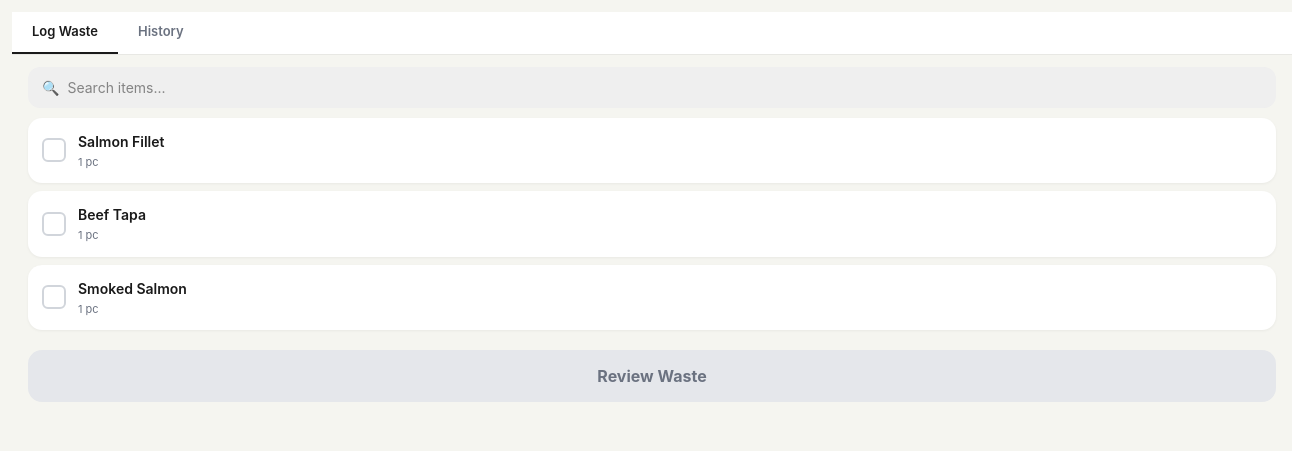
WasteContent review screen › back button returns to selection screen
Step 1. Click the element with test id "item-row-Salmon Fillet" → (652, 150), box [28,118,1276,183]
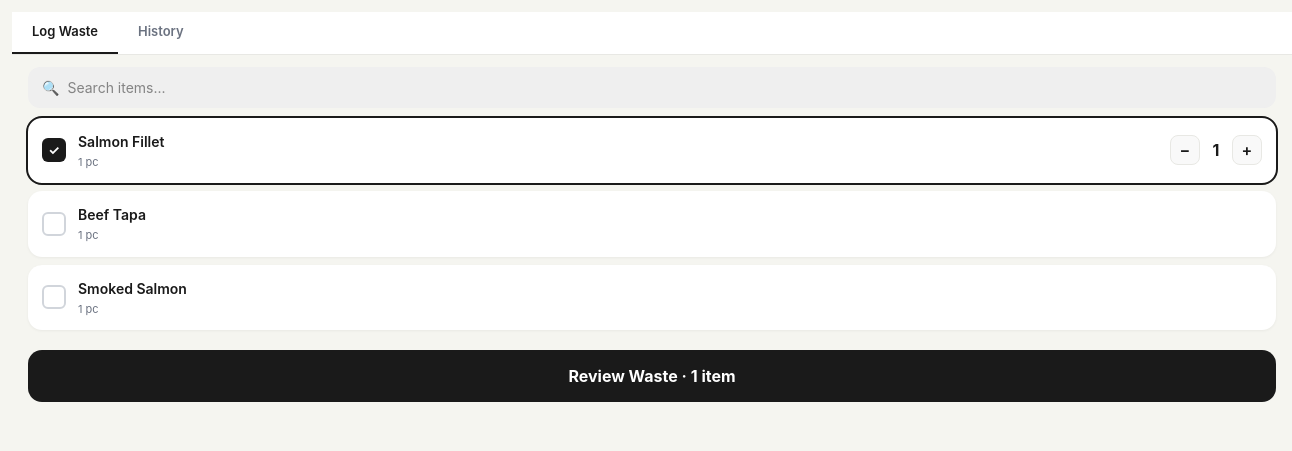
Step 2. Click the button with test id "inc-Salmon Fillet" → (1247, 150), box [1232,135,1262,165]
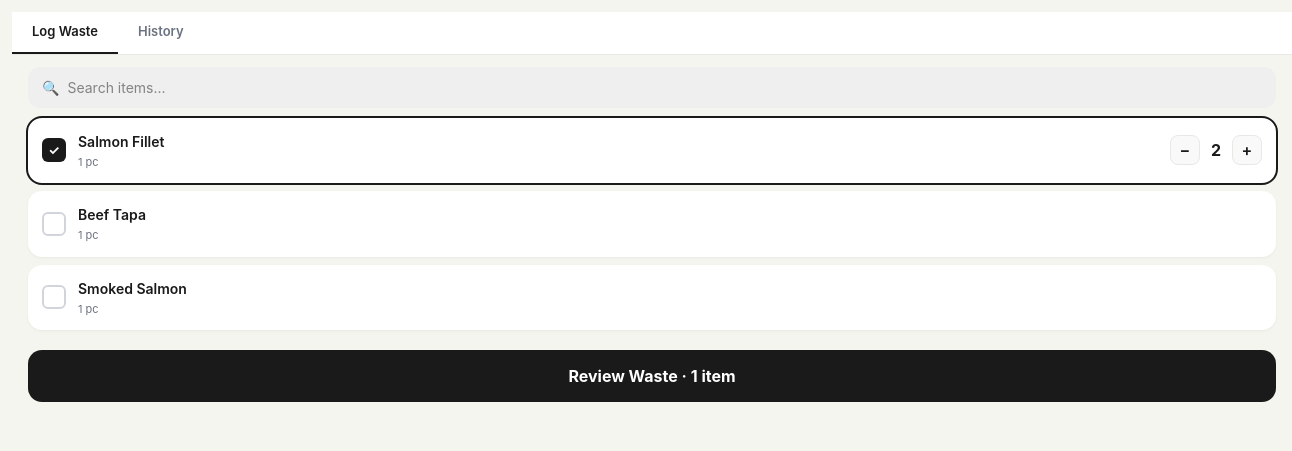
Step 3. Click the element with test id "item-row-Beef Tapa" → (652, 224), box [28,191,1276,256]
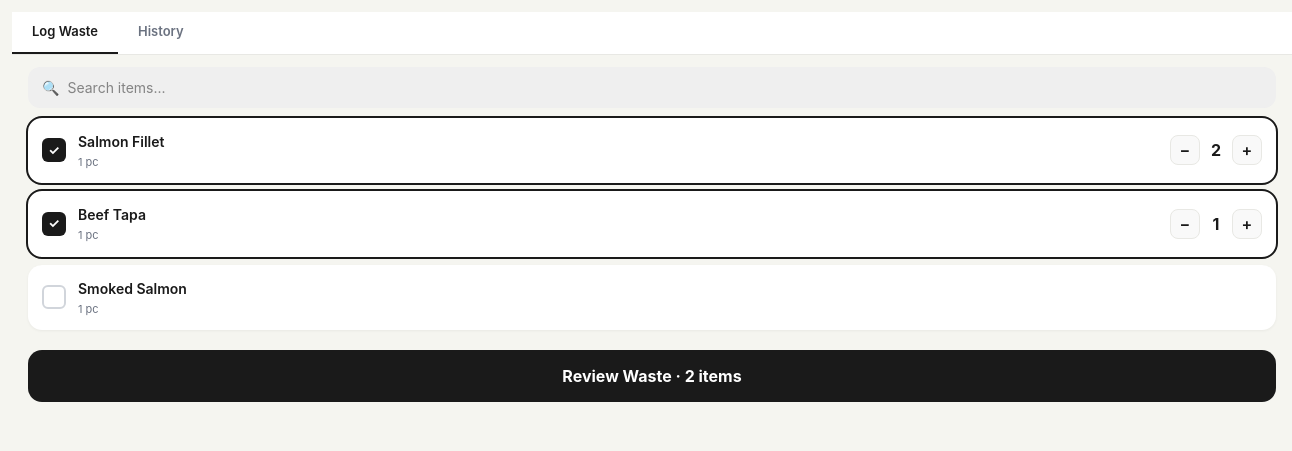
Step 4. Click the button "Review Waste · 2 items" → (652, 376), box [28,350,1276,402]
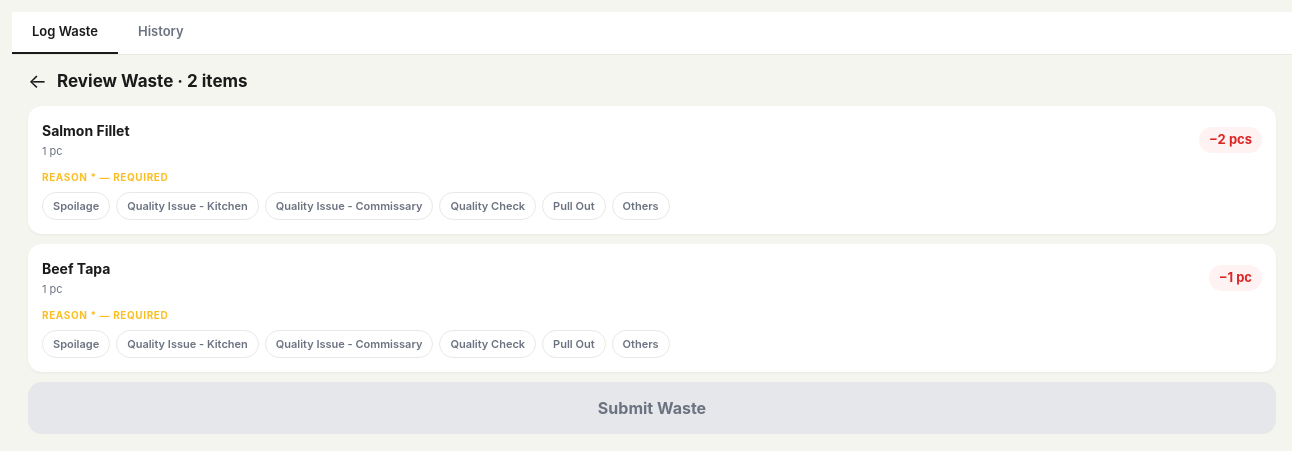
Step 5. Click the button named "back" → (38, 81), box [28,71,47,91]
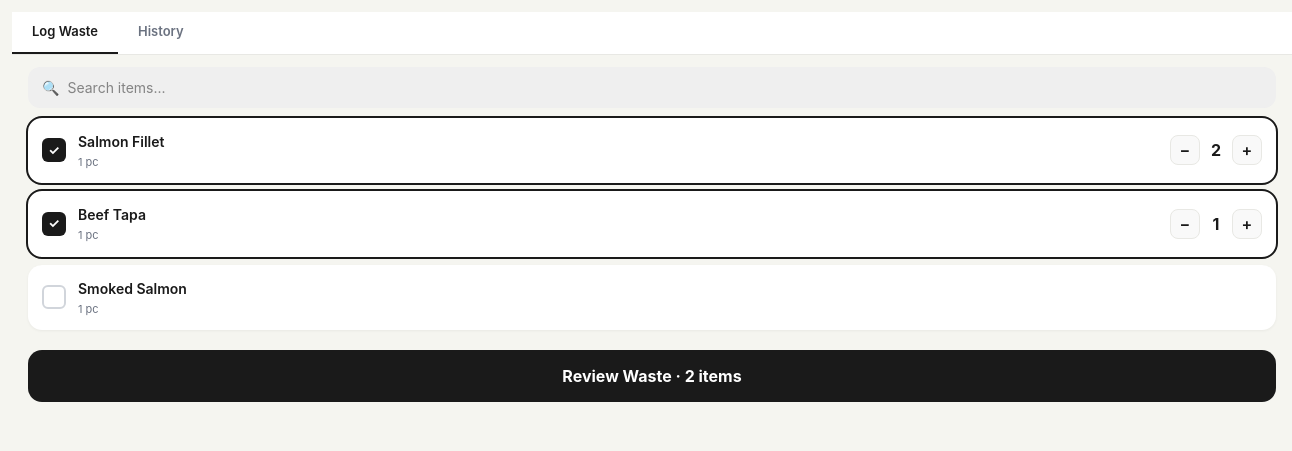
Result: the field with placeholder "Search items..." is shown at [68,76,1262,98]
